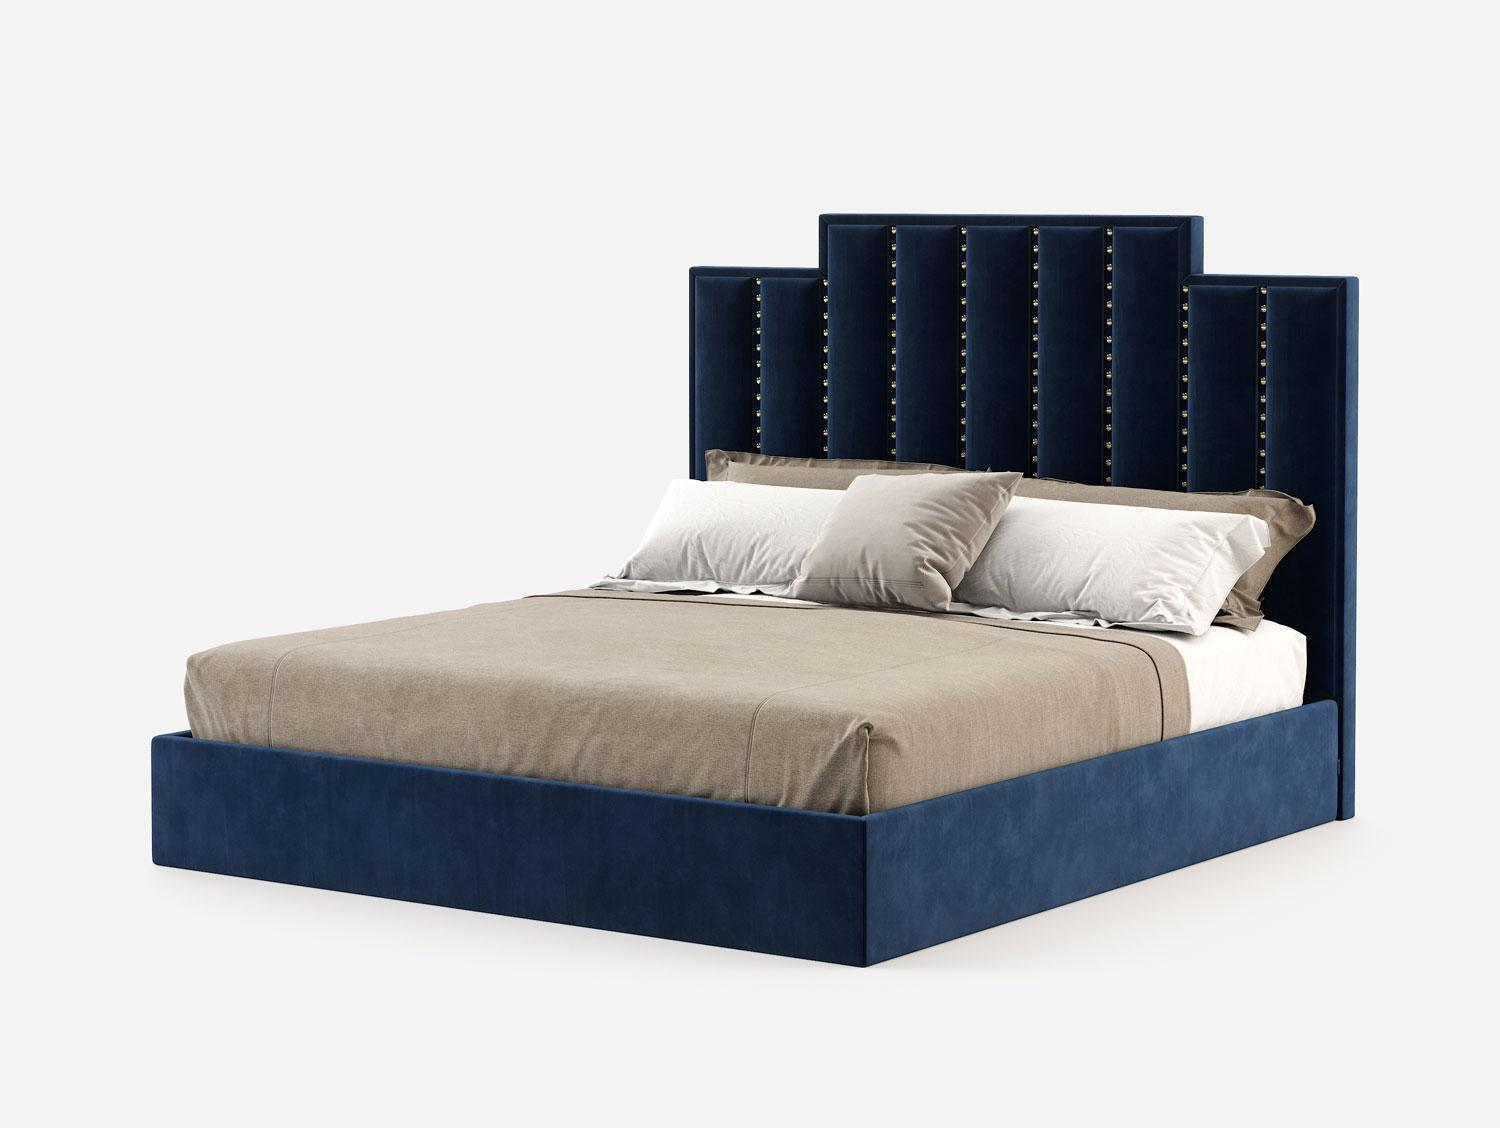bed: (318, 207, 1350, 867)
